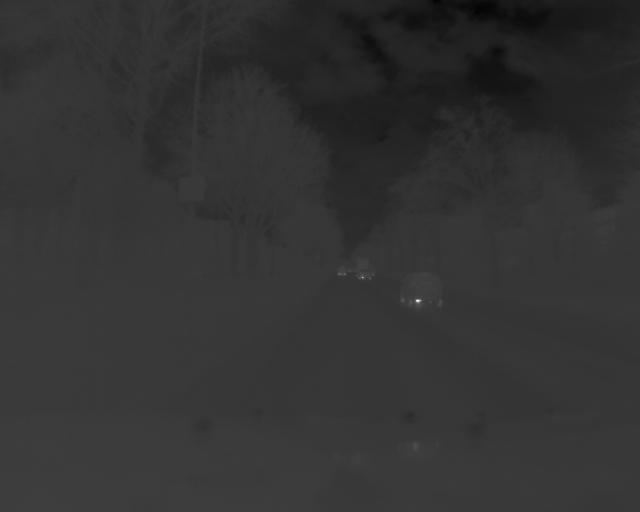car: (397, 274, 446, 317), (337, 265, 347, 280)
